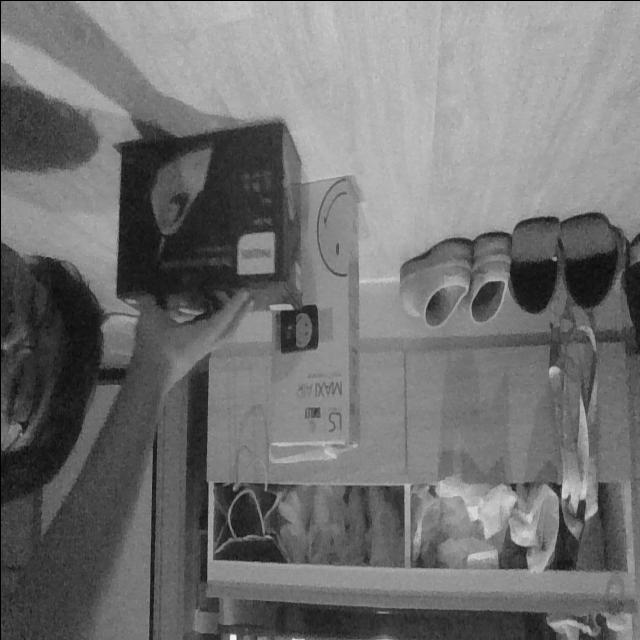Dryer: (266, 175, 362, 466)
IRON: (113, 118, 304, 318)
